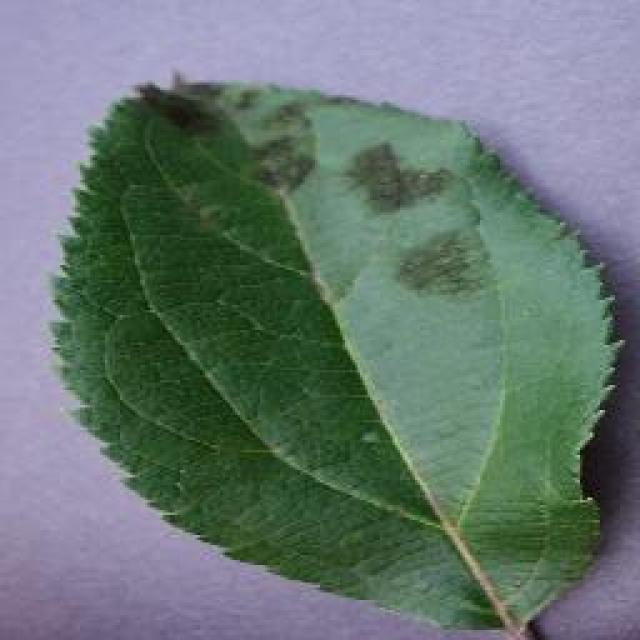apple scab disease: (45, 68, 635, 638)
